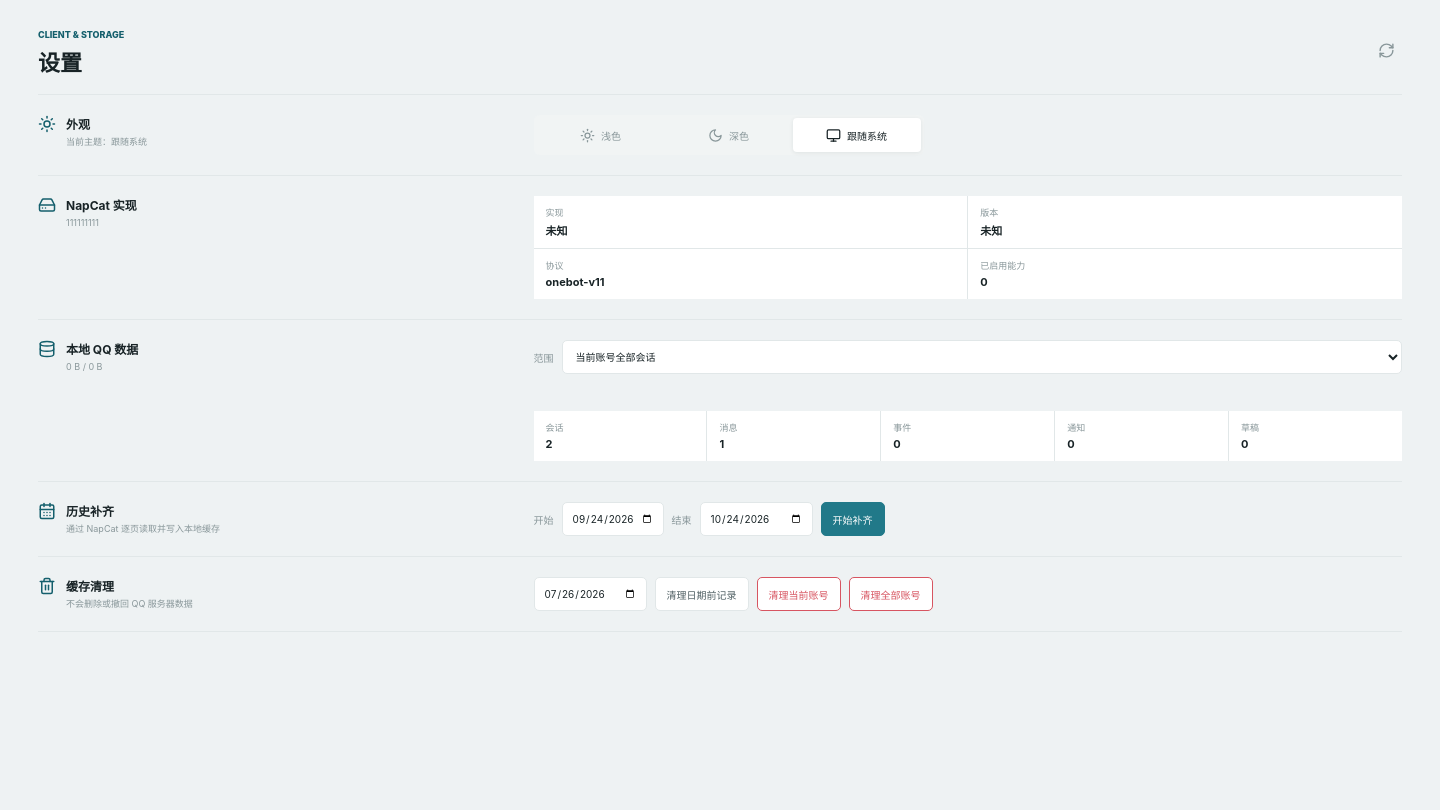
Test: SettingsView › reports a partial history backfill as incomplete when any conversation fails
Click the button "开始补齐".
click(853, 519)  # box x1=821 y1=502 x2=885 y2=536
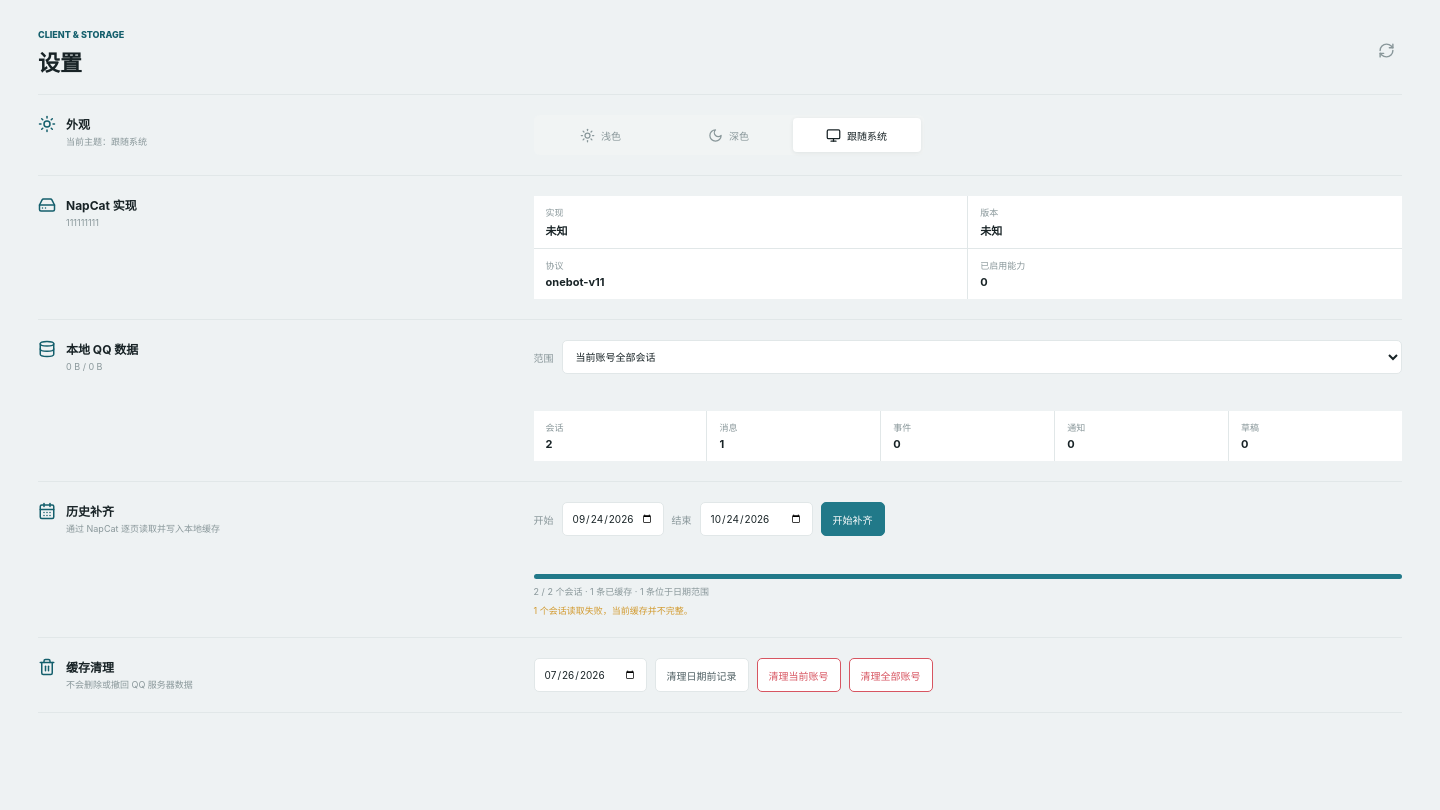
Check: the text "1 个会话读取失败，当前缓存并不完整" is shown, box x1=534 y1=605 x2=693 y2=616
